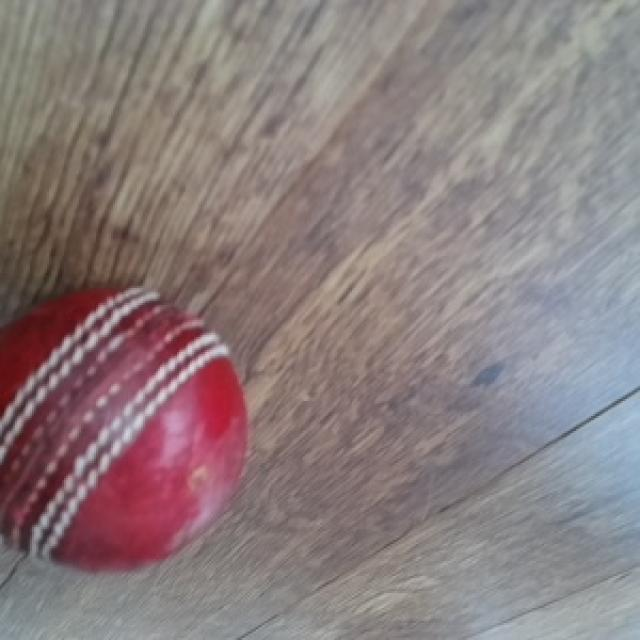ball: (0, 288, 252, 578)
